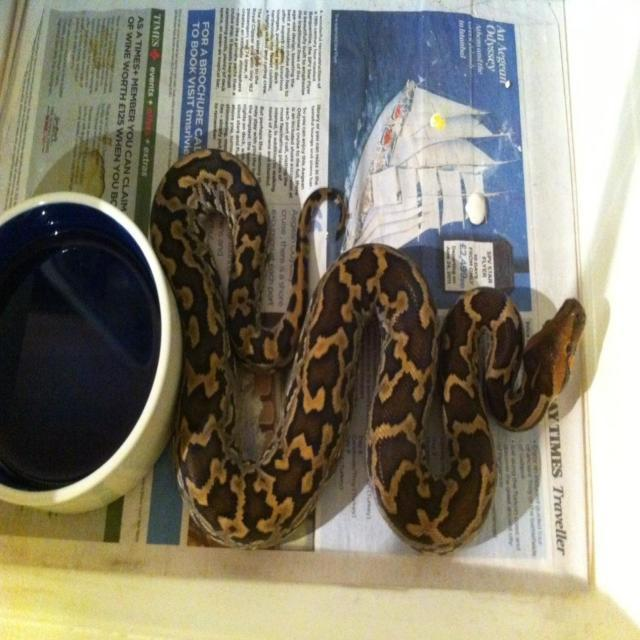Snake: (148, 148, 590, 558)
